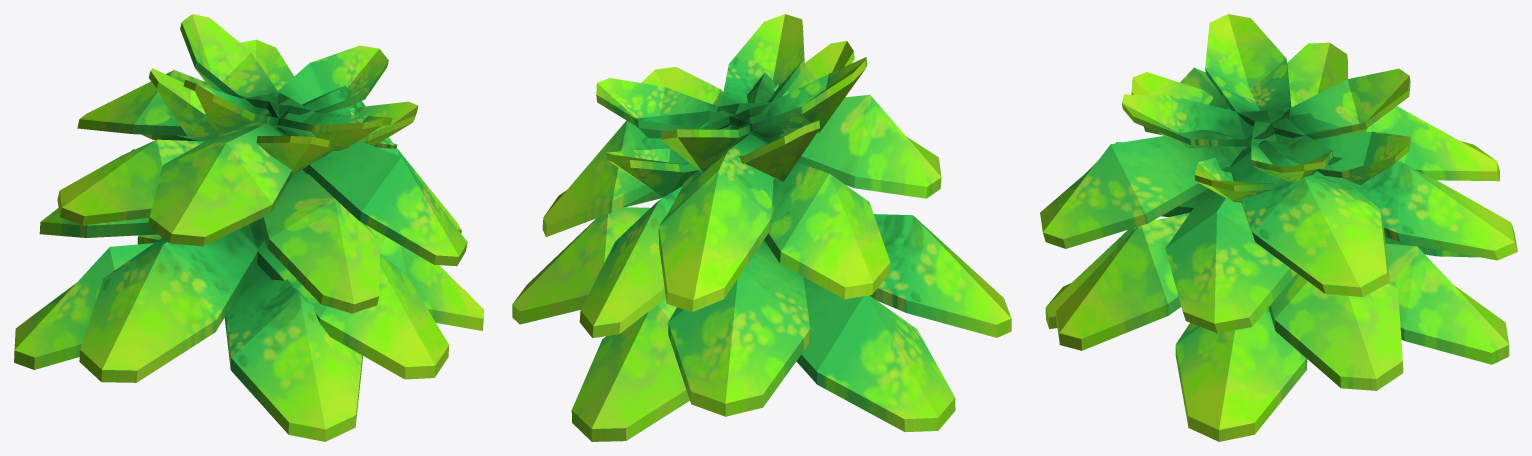
Rendered from rosal_01.fbx.
3 renders of one model, left to right at view 1: azimuth 30°, elevation 25°; view 2: azimuth 150°, elevation 25°; view 3: azimuth 270°, elevation 25°, orthographic. The views are drawn at different scales.
Parts seen in each view (by area): view 1: Plane.036; view 2: Plane.036; view 3: Plane.036.
Boxes of the visible parts, x1,y1,x2,y2 form: Plane.036: (14, 14, 483, 441); Plane.036: (512, 14, 1011, 441); Plane.036: (1040, 14, 1517, 441).
Bounding box in the file's own units: 121 × 85.28 × 126.
